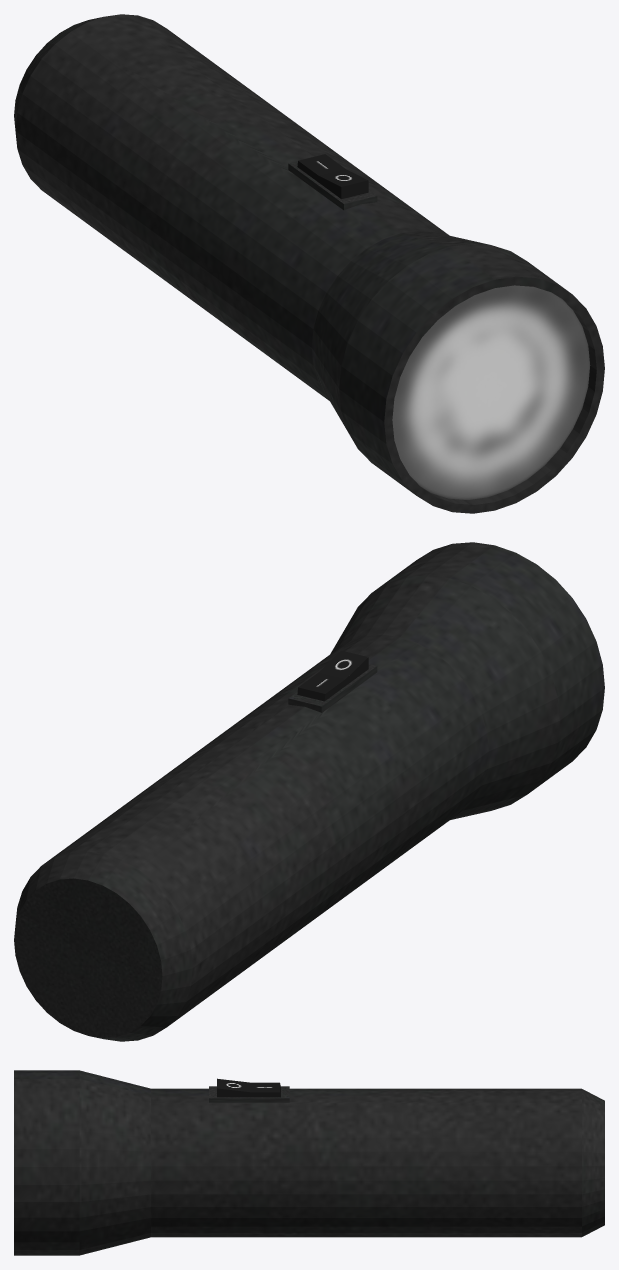
The model's file is FixedFlashlight.fbx.
The picture shows the model from 3 angles, top to bottom: view 1: azimuth 30°, elevation 25°; view 2: azimuth 150°, elevation 25°; view 3: azimuth 270°, elevation 25°; orthographic projection. The views are drawn at different scales.
Parts seen in each view (by area): view 1: Cylinder, Cylinder.001; view 2: Cylinder, Cylinder.001; view 3: Cylinder, Cylinder.001.
Boxes of the visible parts, x1,y1,x2,y2 form: Cylinder: [14, 14, 604, 513]; Cylinder.001: [297, 154, 368, 199]; Cylinder: [14, 542, 604, 1041]; Cylinder.001: [297, 650, 368, 701]; Cylinder: [14, 1070, 604, 1255]; Cylinder.001: [217, 1078, 280, 1097].
Bounding box in the file's own units: 166 × 166 × 530.
4 materials, 4 textured.
